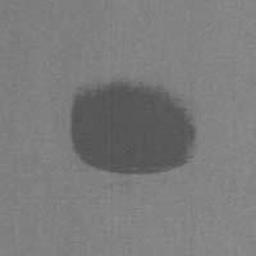Oil spot: (70, 82, 196, 175)
